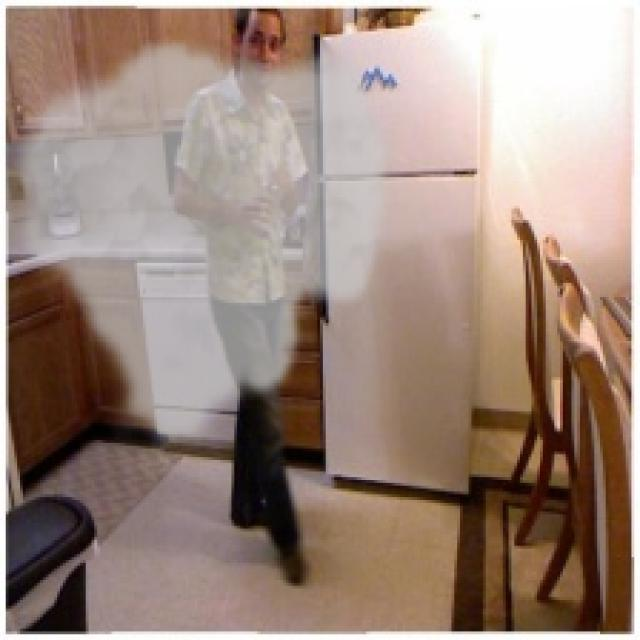Smoke: (2, 34, 398, 457)
